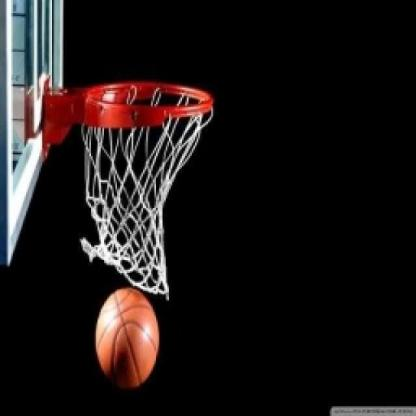basketball: (94, 284, 162, 389)
